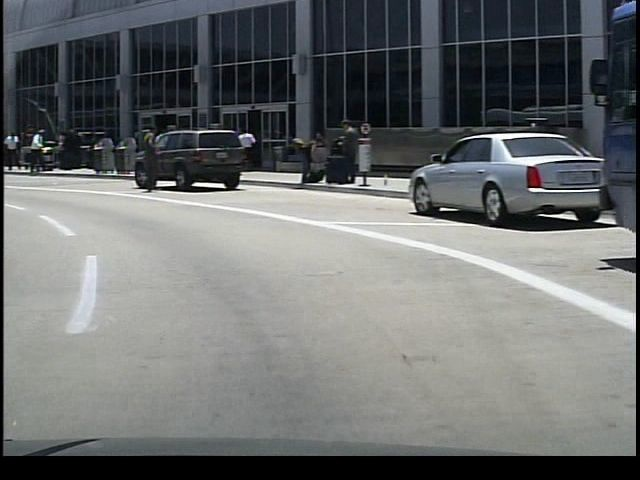person: (324, 119, 360, 189), (130, 116, 159, 200), (290, 128, 320, 184), (20, 124, 49, 178), (232, 124, 254, 173), (2, 129, 20, 177)
